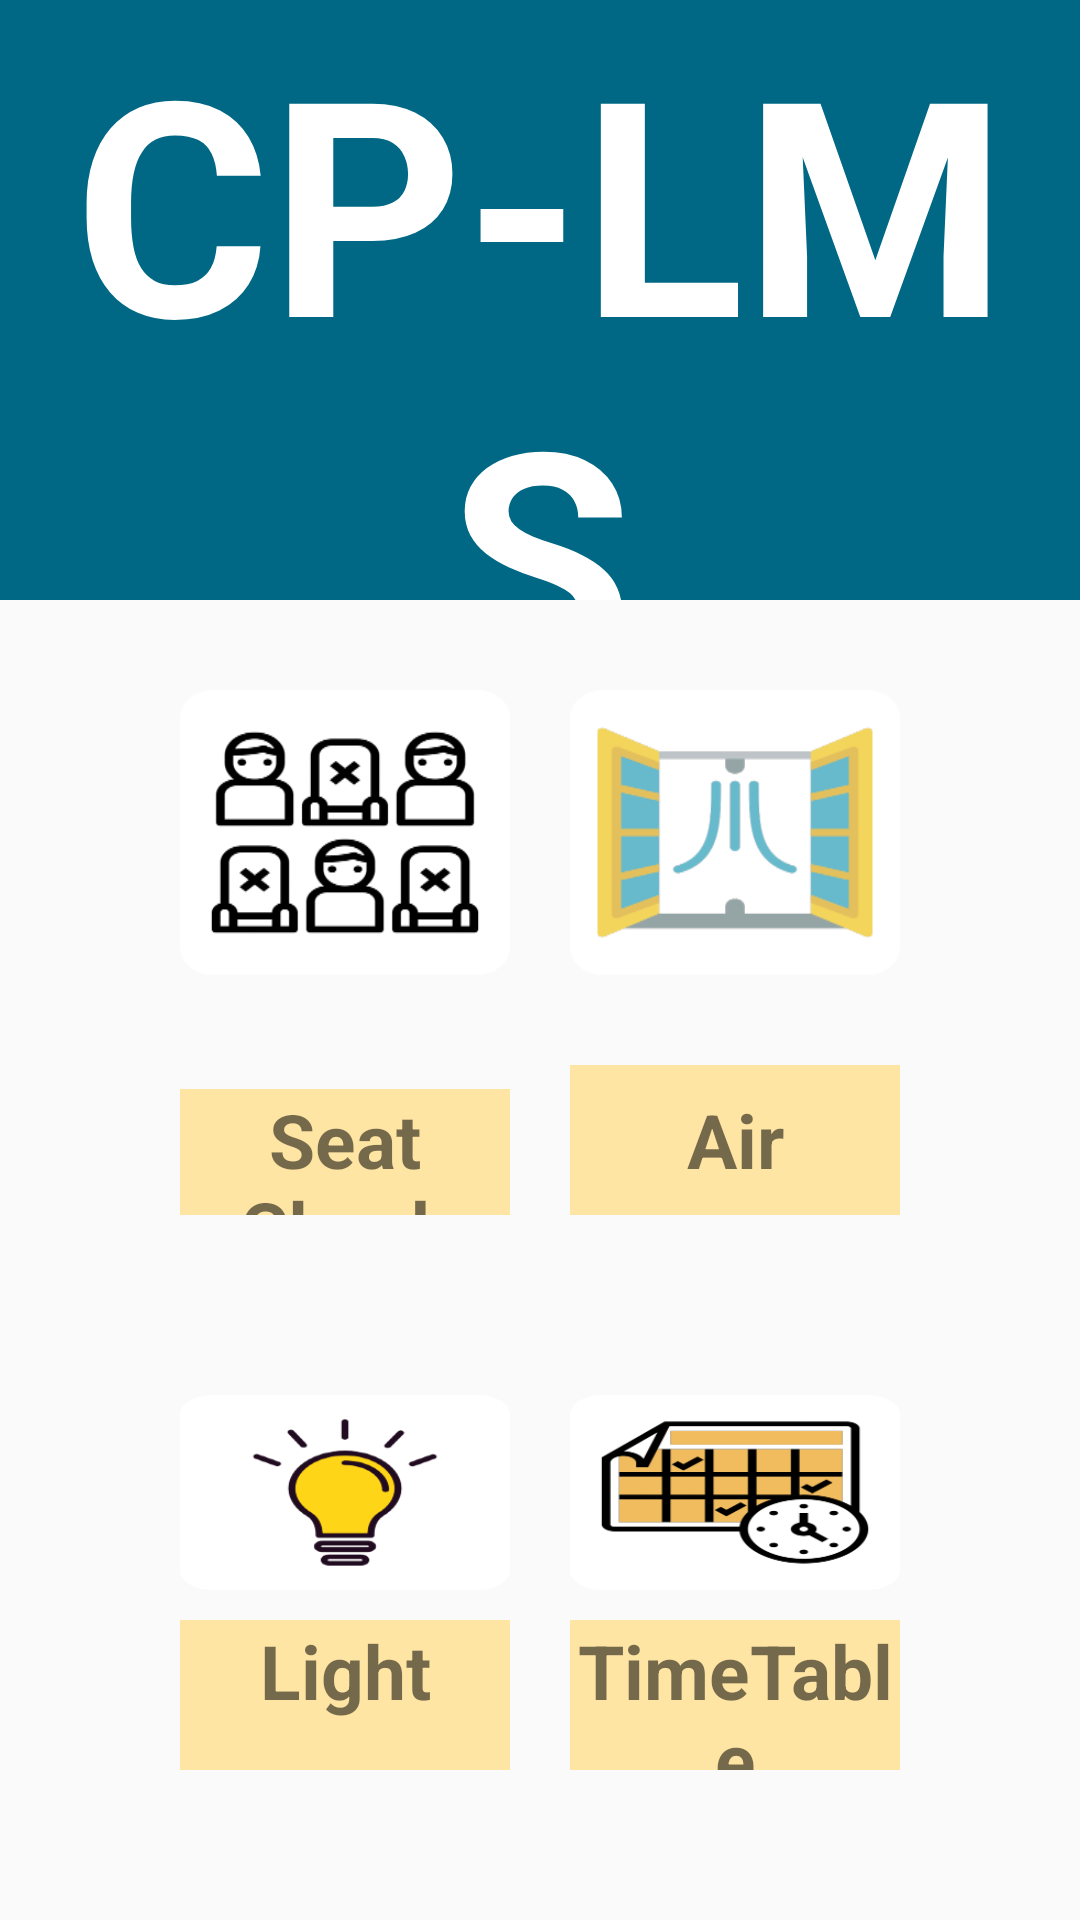

Named icons in this screenshot (1080*1920) and their centers, [x,y]:
window: [735,832]
